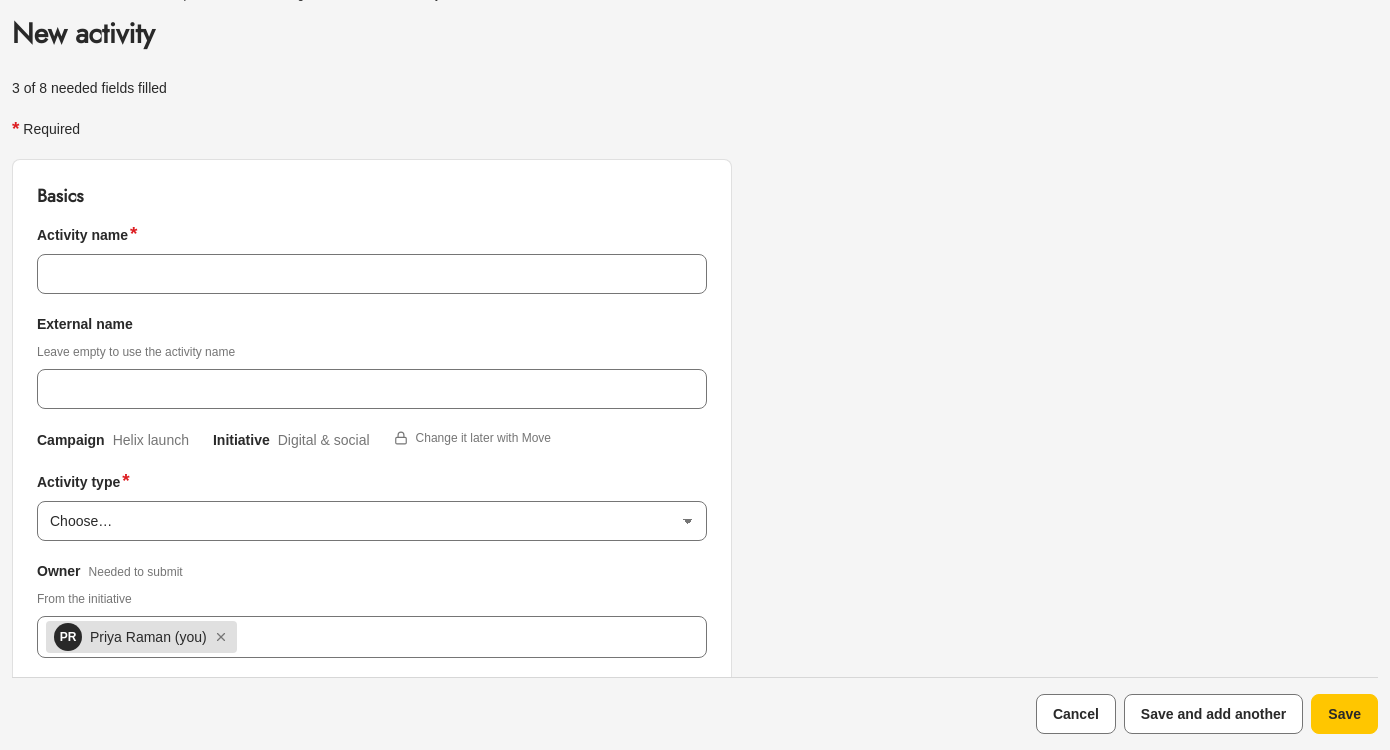
Test case: ActivityFormPage, Shell attributes and goals (feature 006, US3) › sends INQ and keeps MQL and revenue to the model unless typed (FR-018)
Type "Trade show" into the field labelled "Activity name" at (372, 274), box [37, 254, 707, 294]
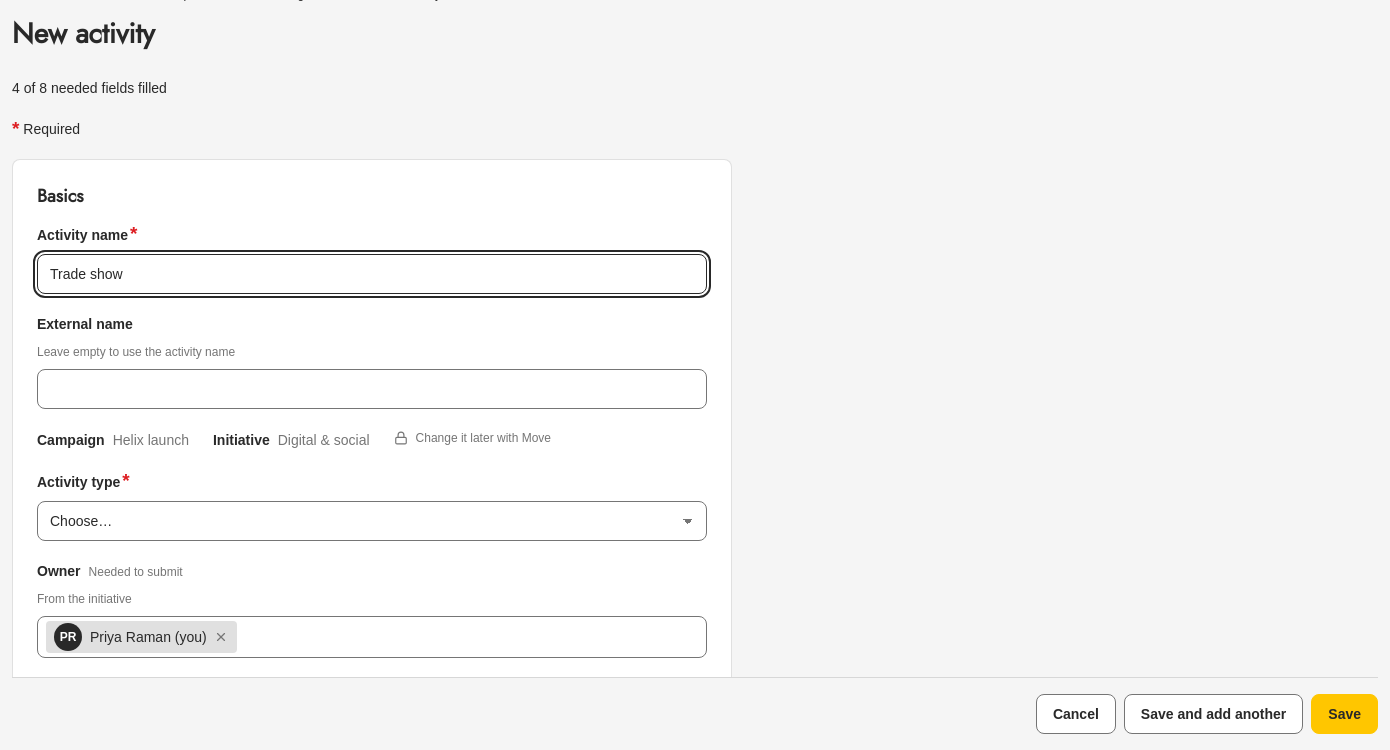
Select "Sponsorship" in the dropdown labelled "Activity type" at (372, 521), box [37, 501, 707, 541]
(page scrolled)
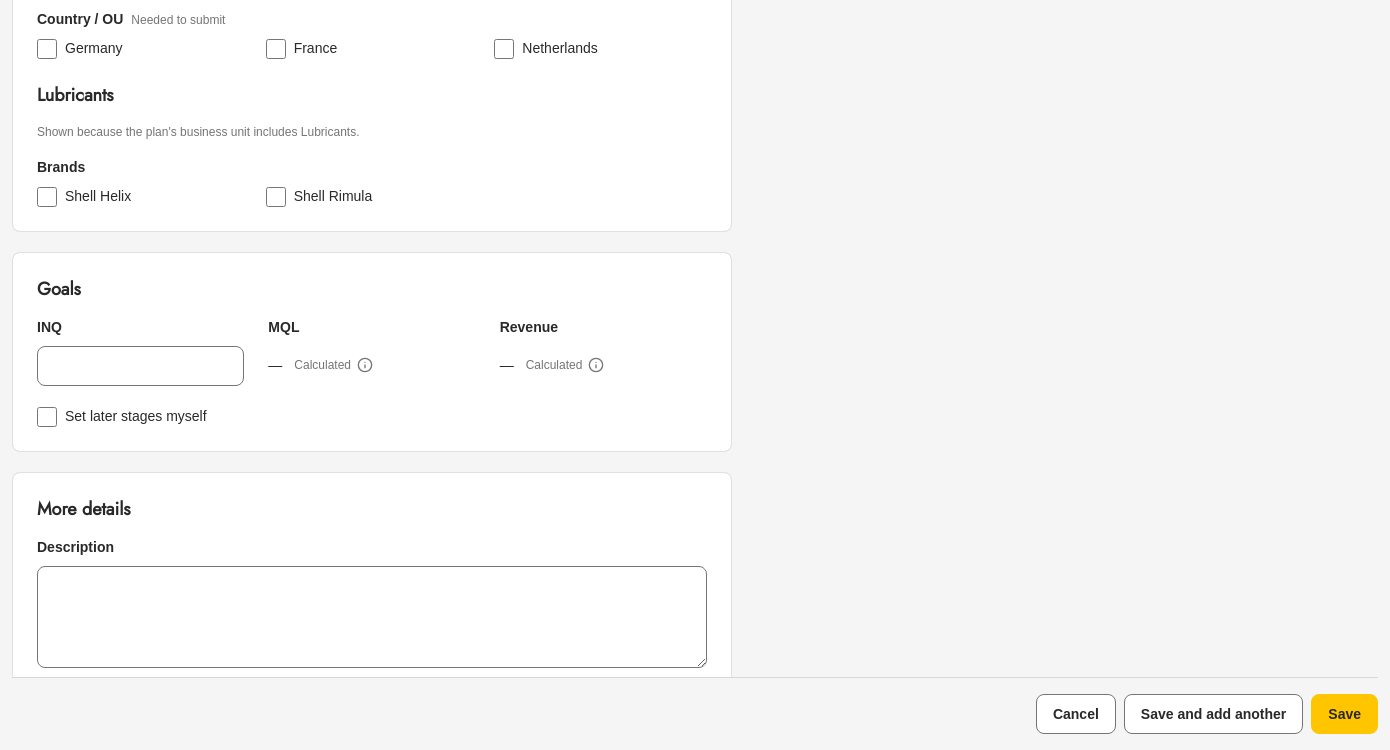
Type "250,000" into the field labelled "INQ" at (141, 366), box [37, 346, 244, 386]
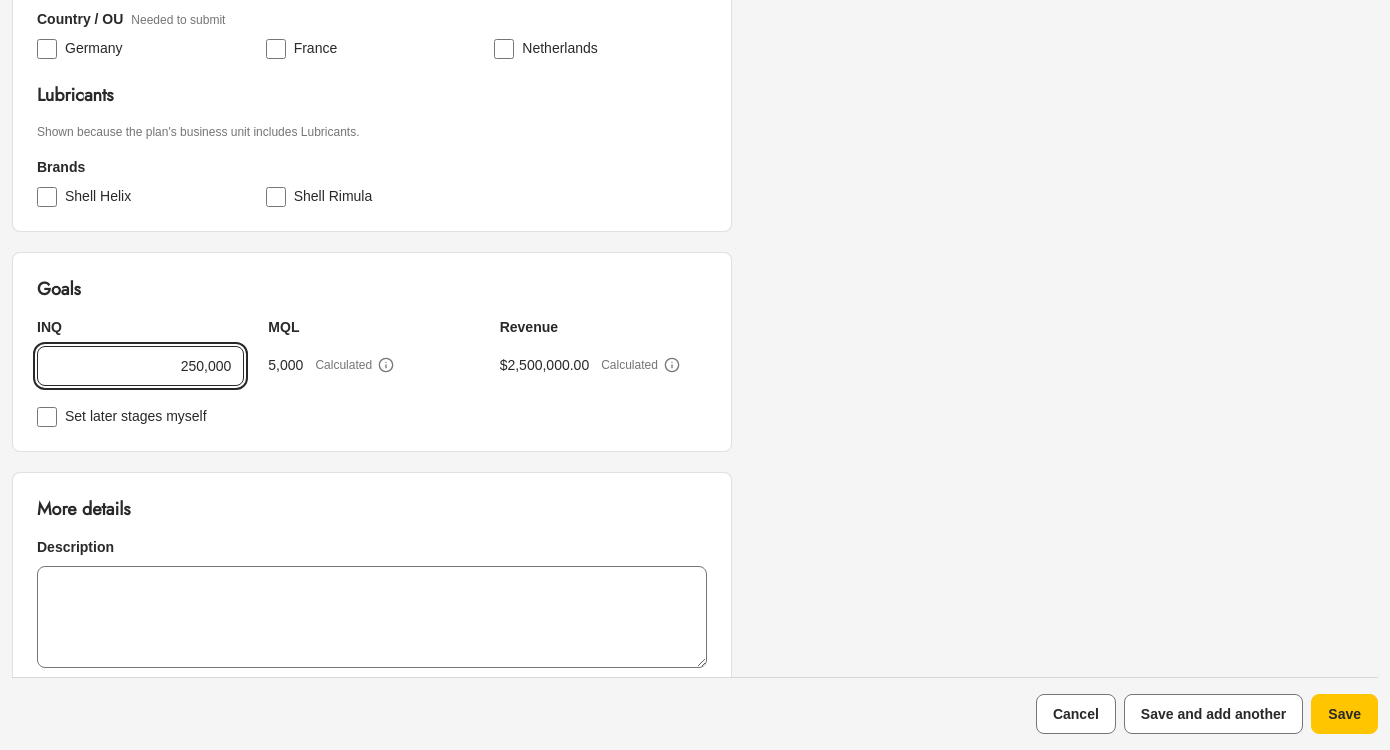
Click the button "Save" at (1345, 714), box [1311, 694, 1378, 734]
(page scrolled)
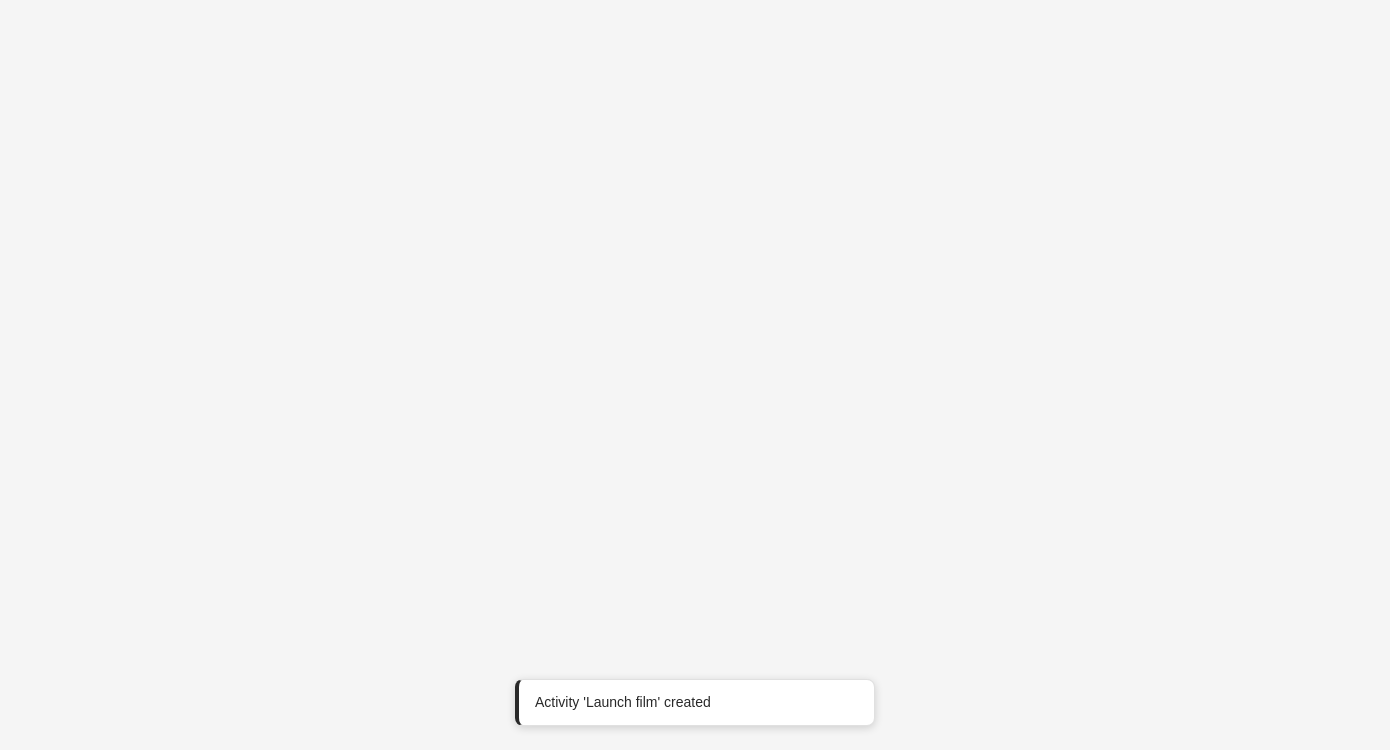
Expected: the text "Activity 'Launch film' created" is shown, [535, 694, 711, 710]
